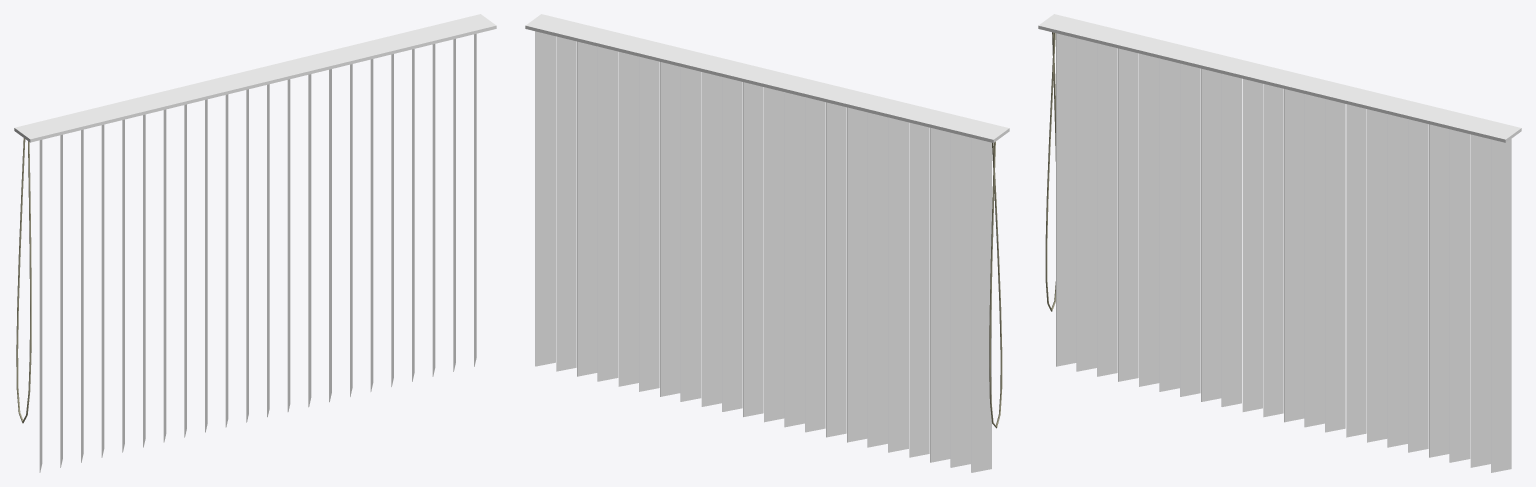
Rendered from Curtain 2.fbx.
3 views of the same model, side by side, from view 1: azimuth 30°, elevation 25°; view 2: azimuth 150°, elevation 25°; view 3: azimuth 330°, elevation 25° (orthographic).
Parts seen in each view (by area): view 1: curtain 2; view 2: curtain 2; view 3: curtain 2.
Boxes of the visible parts, bbox=[...] form: curtain 2: bbox=[14, 14, 496, 472]; curtain 2: bbox=[525, 14, 1009, 472]; curtain 2: bbox=[1038, 14, 1521, 472].
Bounding box in the file's own units: 282 × 196 × 17.28.
1 material, 1 textured.
